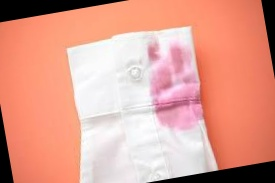wine: (140, 34, 204, 137)
